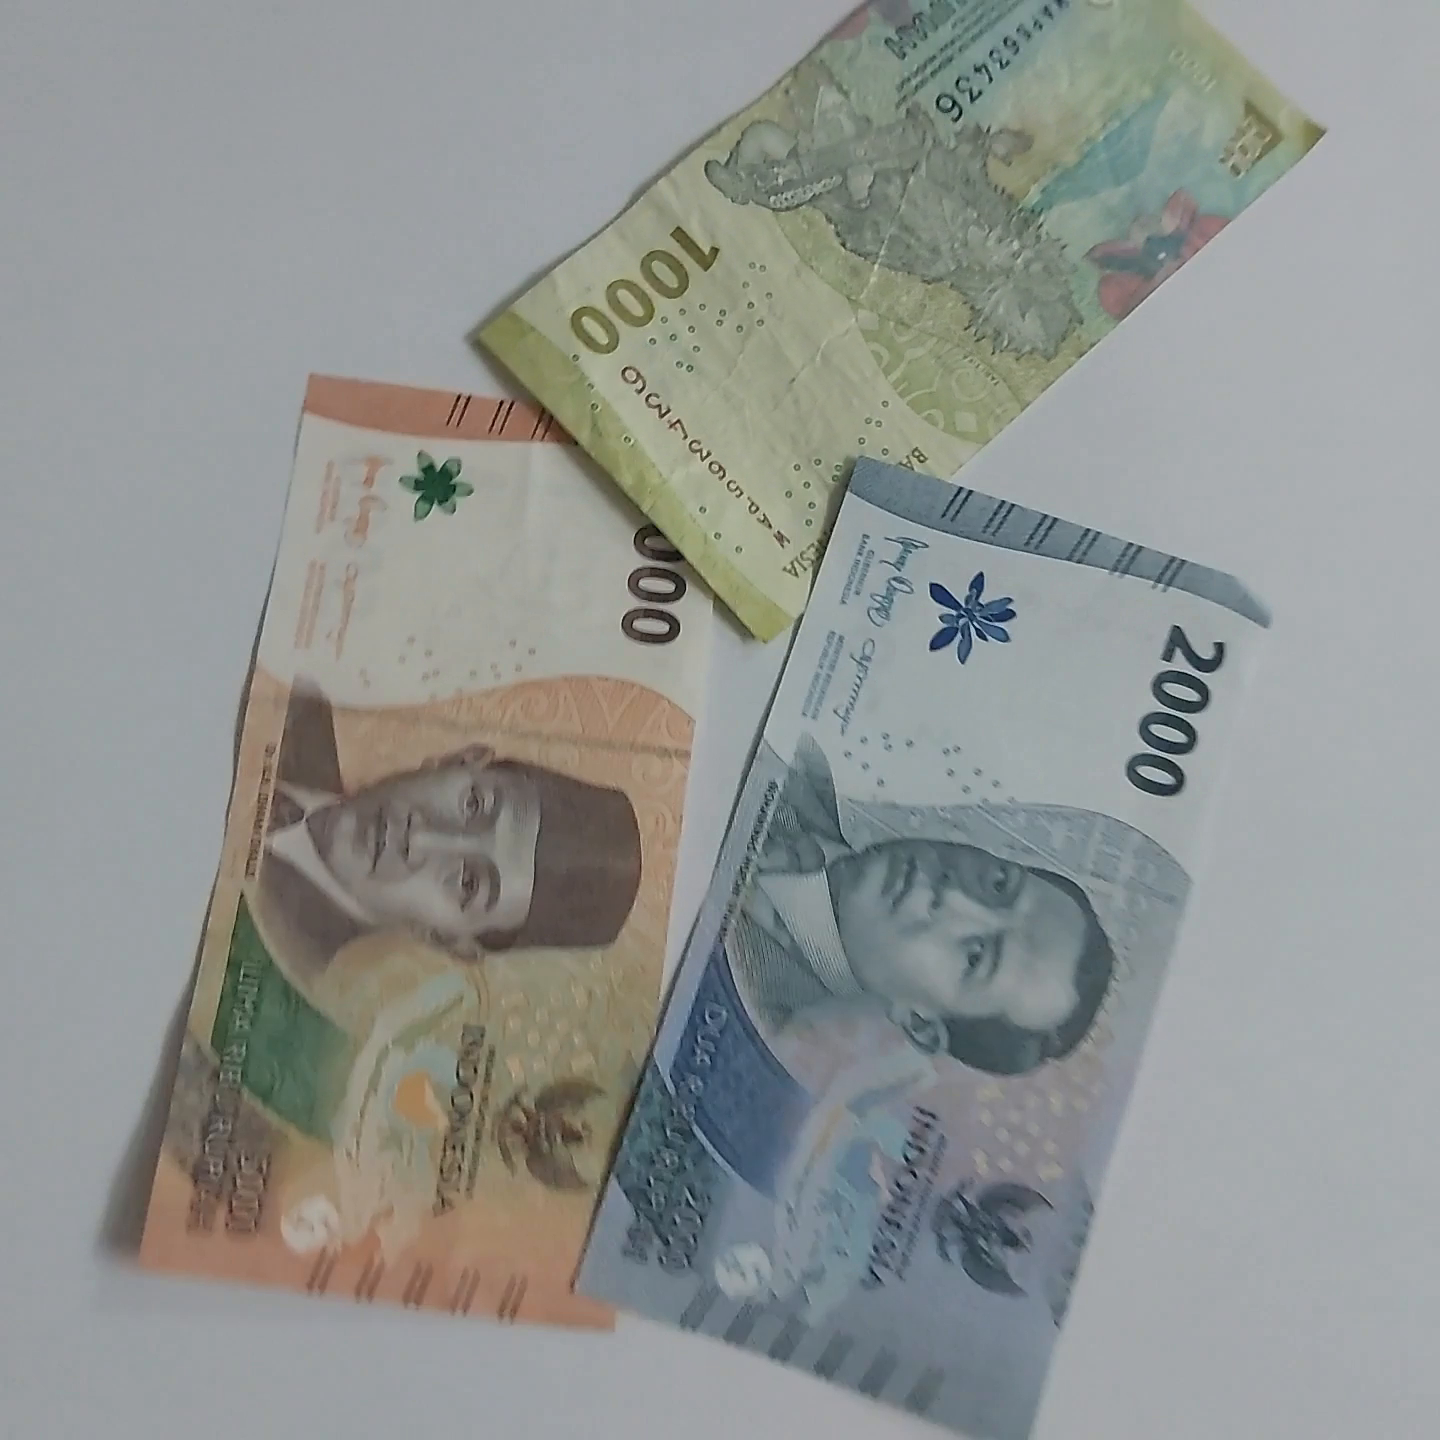1k: (489, 0, 1414, 632)
2k: (613, 479, 1294, 1425)
5k: (162, 320, 655, 1373)
